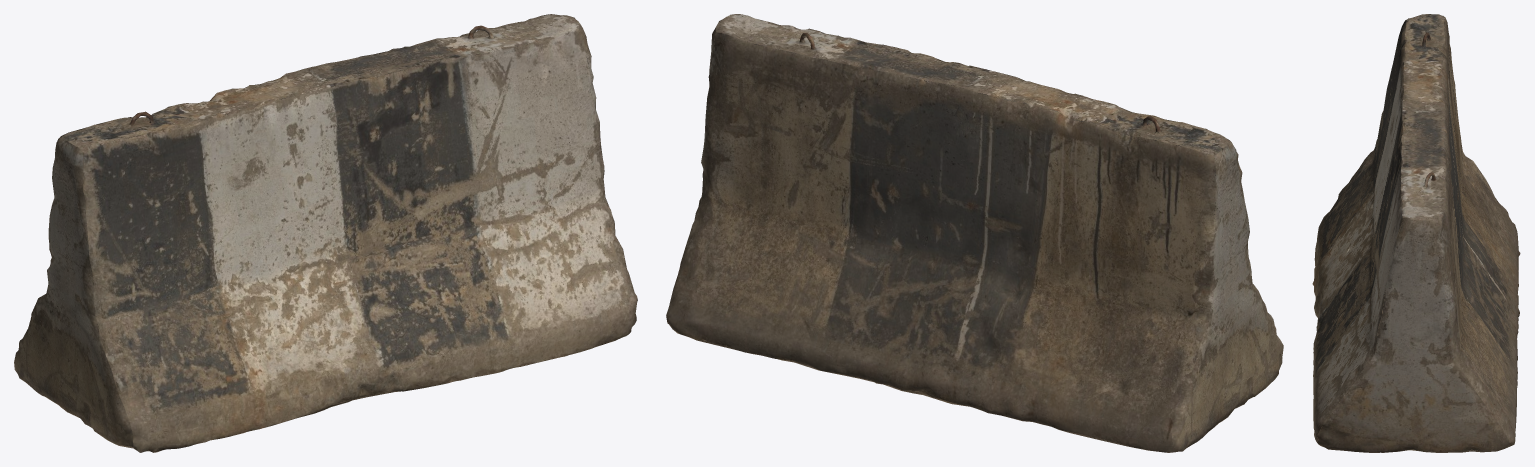
File: ConcreteRoadBarrier.obj
The picture shows the model from 3 angles, left to right: view 1: azimuth 30°, elevation 25°; view 2: azimuth 150°, elevation 25°; view 3: azimuth 270°, elevation 25°; orthographic projection. The views are drawn at different scales.
Visible parts, largest first — view 1: Concrete; view 2: Concrete; view 3: Concrete.
Boxes of the visible parts, <box> form: Concrete: <box>14,14,637,452</box>; Concrete: <box>666,14,1283,452</box>; Concrete: <box>1312,14,1520,452</box>.
Bounding box in the file's own units: 1.54 × 0.8322 × 0.6388.
Materials: 1 (1 with a texture image).
